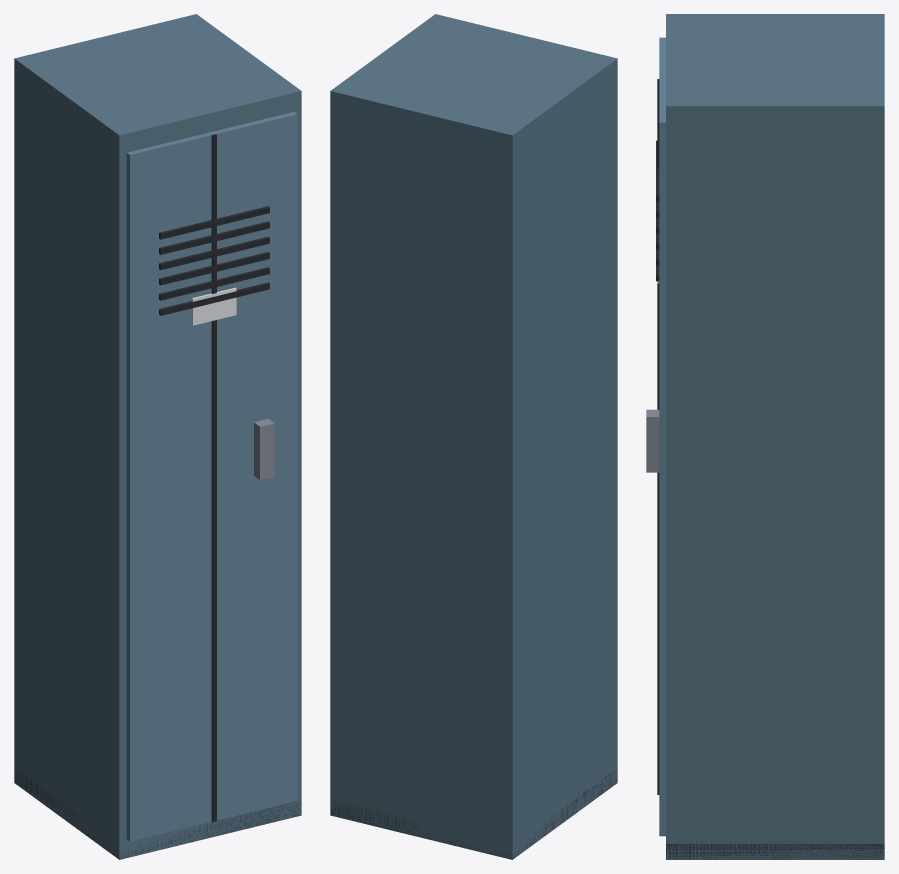
Rendered from locker.glb.
3 renders of one model, left to right at view 1: azimuth 30°, elevation 25°; view 2: azimuth 150°, elevation 25°; view 3: azimuth 270°, elevation 25°, orthographic. The views are drawn at different scales.
Parts seen in each view (by area): view 1: body, door, vent, seam, handle, feet, label; view 2: body, feet; view 3: body, door, feet, seam, handle, vent.
Boxes of the visible parts, x1,y1,x2,y2 form: body: (14, 14, 301, 859); door: (126, 112, 297, 841); vent: (159, 206, 269, 315); seam: (211, 134, 216, 821); handle: (254, 418, 274, 480); feet: (14, 768, 301, 858); label: (192, 287, 236, 325); body: (330, 14, 617, 859); feet: (331, 768, 617, 859); body: (666, 14, 884, 859); door: (659, 37, 665, 836); feet: (666, 844, 884, 859); seam: (657, 79, 659, 794); handle: (646, 409, 659, 472); vent: (656, 140, 659, 281).
Size of the model in its own units: 0.5 by 1.9 by 0.545.
